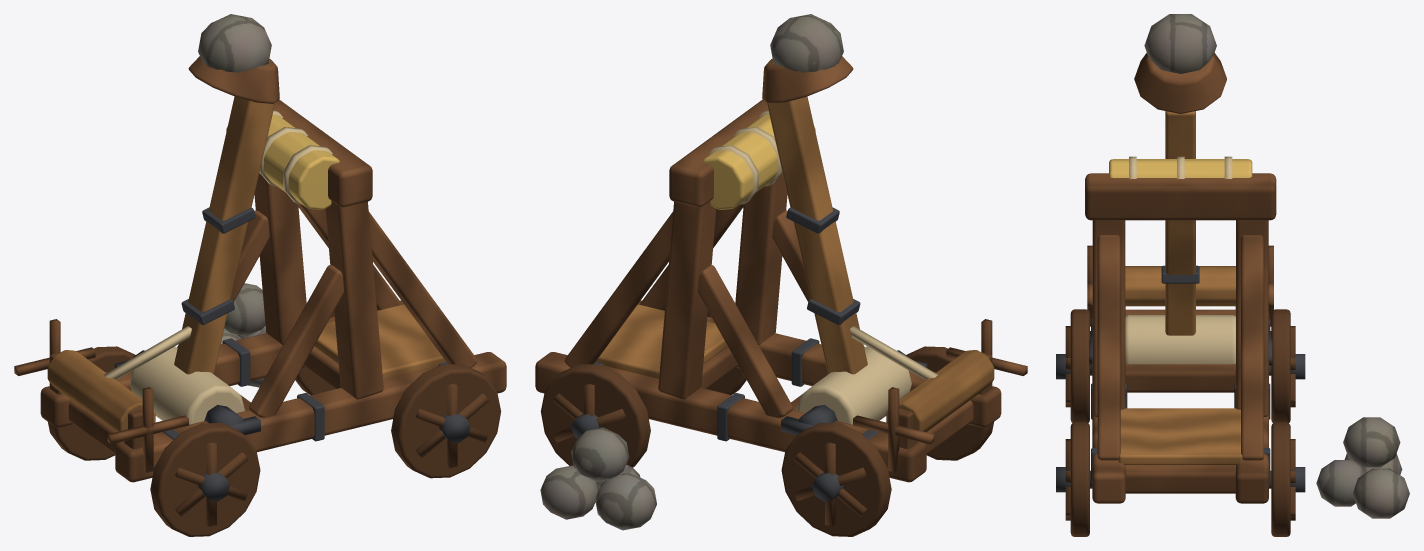
File: catapult.glb
3 views of the same model, side by side, from view 1: azimuth 30°, elevation 25°; view 2: azimuth 150°, elevation 25°; view 3: azimuth 270°, elevation 25° (orthographic). The views are drawn at different scales.
Parts seen in each view (by area): view 1: rail; view 2: rail; view 3: rail.
Part boxes in pixels (x1,y1,x2,y2): rail: (14,14,506,536); rail: (535,14,1027,536); rail: (1056,14,1409,536).
Bounding box in the file's own units: 0.465 × 0.5092 × 0.3705.
Materials: 2 (1 with a texture image).
